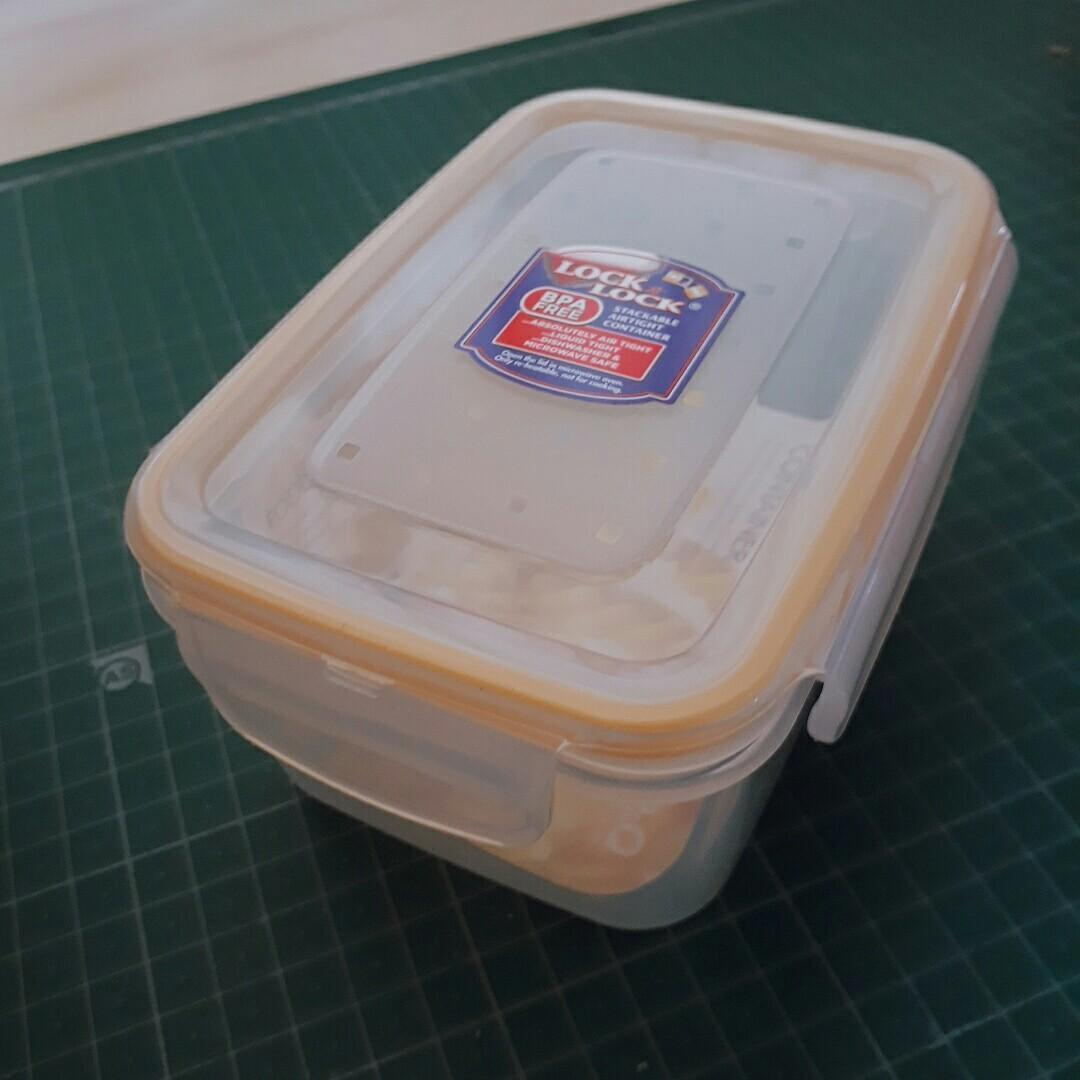plastic: (125, 90, 1016, 927)
